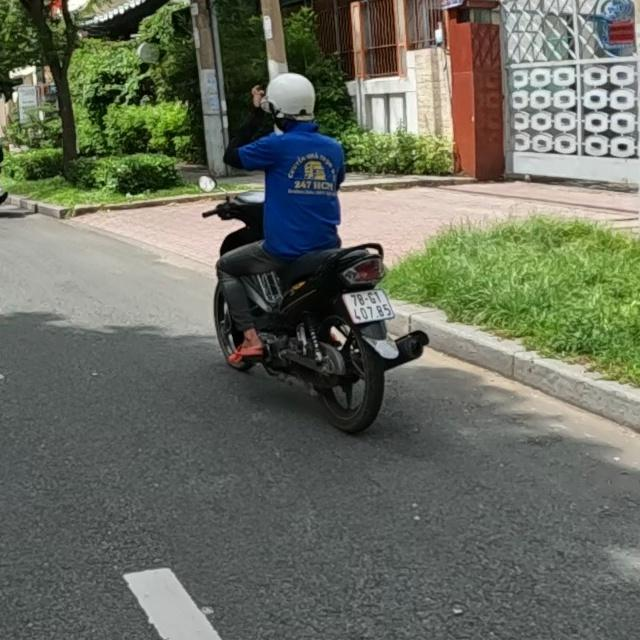license-plate: (341, 288, 395, 325)
